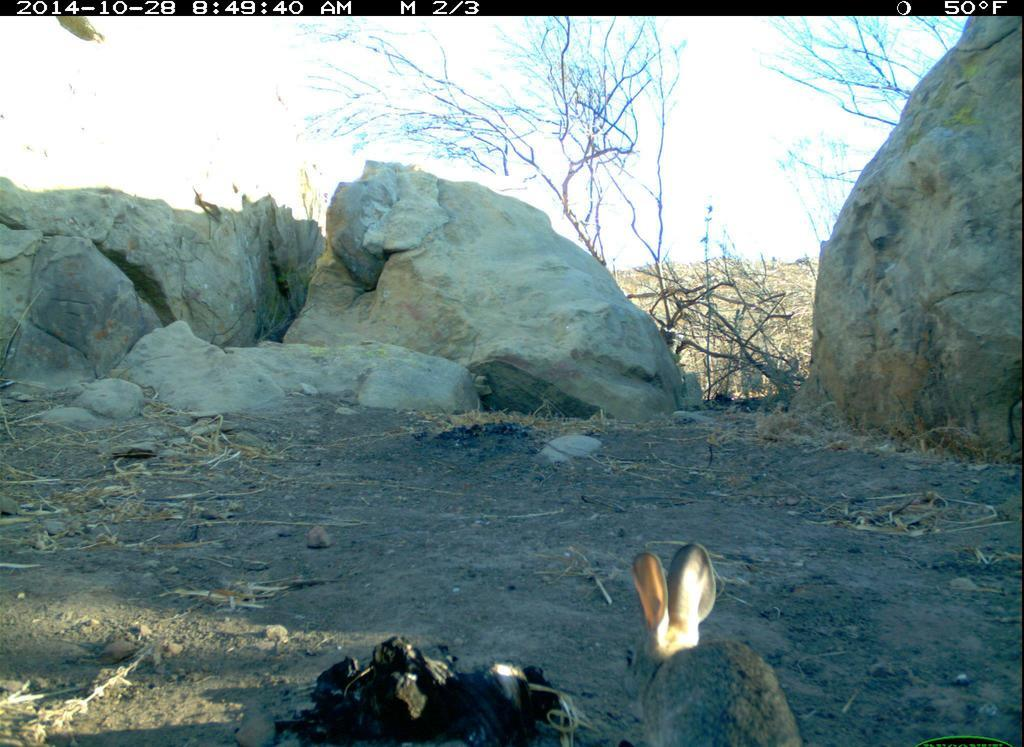rabbit: (610, 534, 807, 745)
